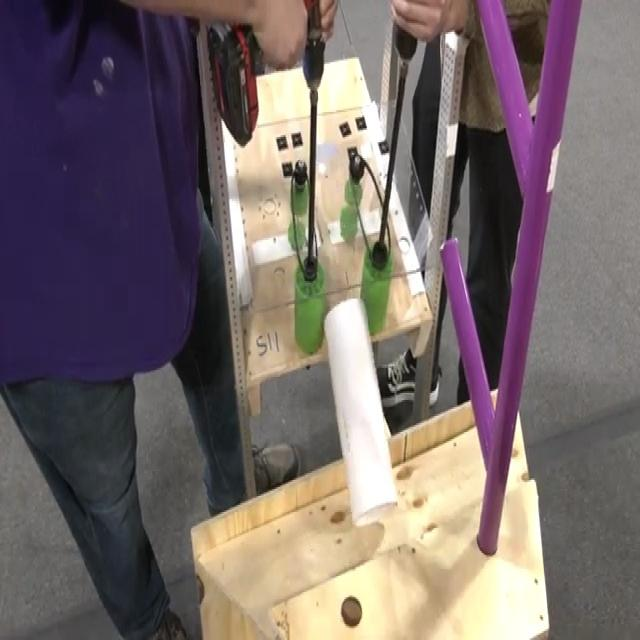Coral: (322, 294, 398, 526)
